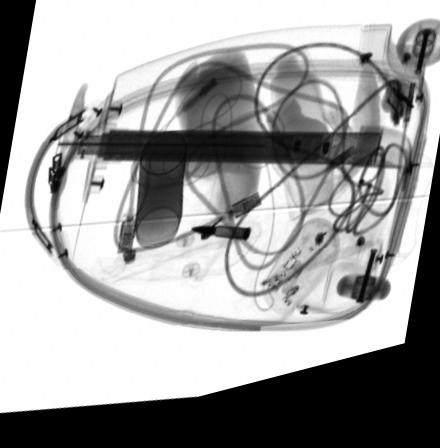Bullet: (189, 235, 249, 252)
